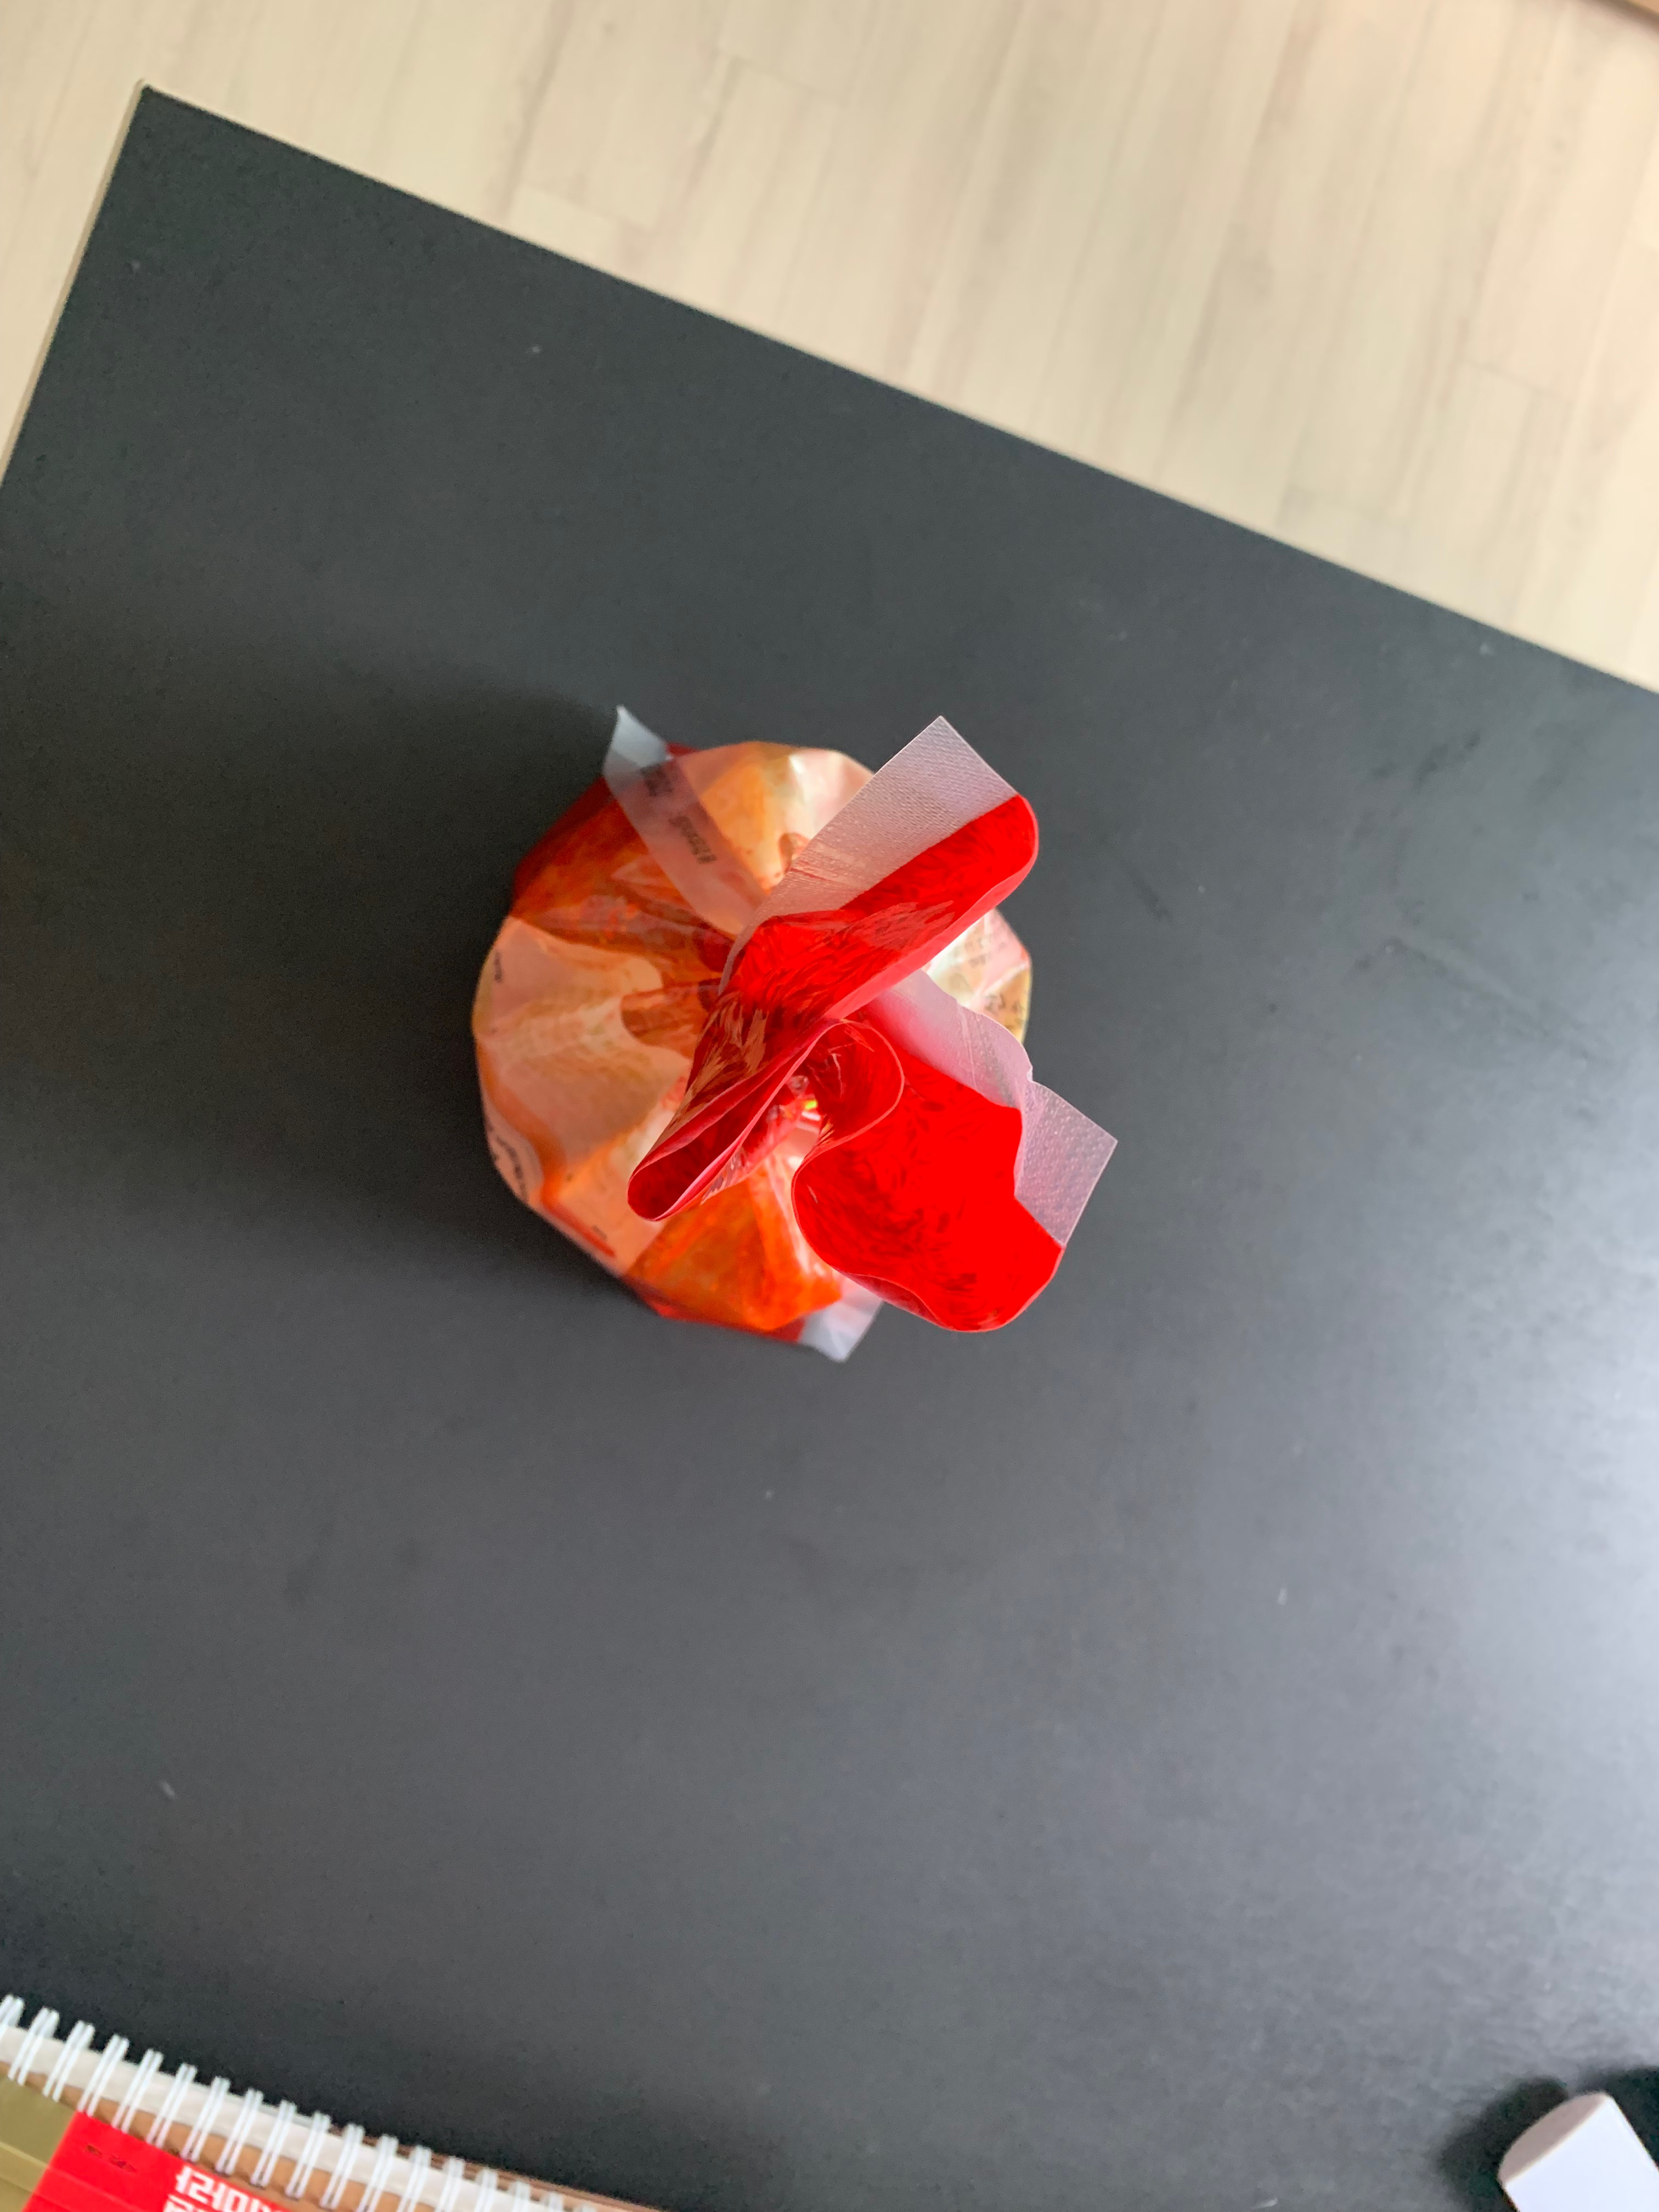kimchi: (471, 730, 1063, 1348)
